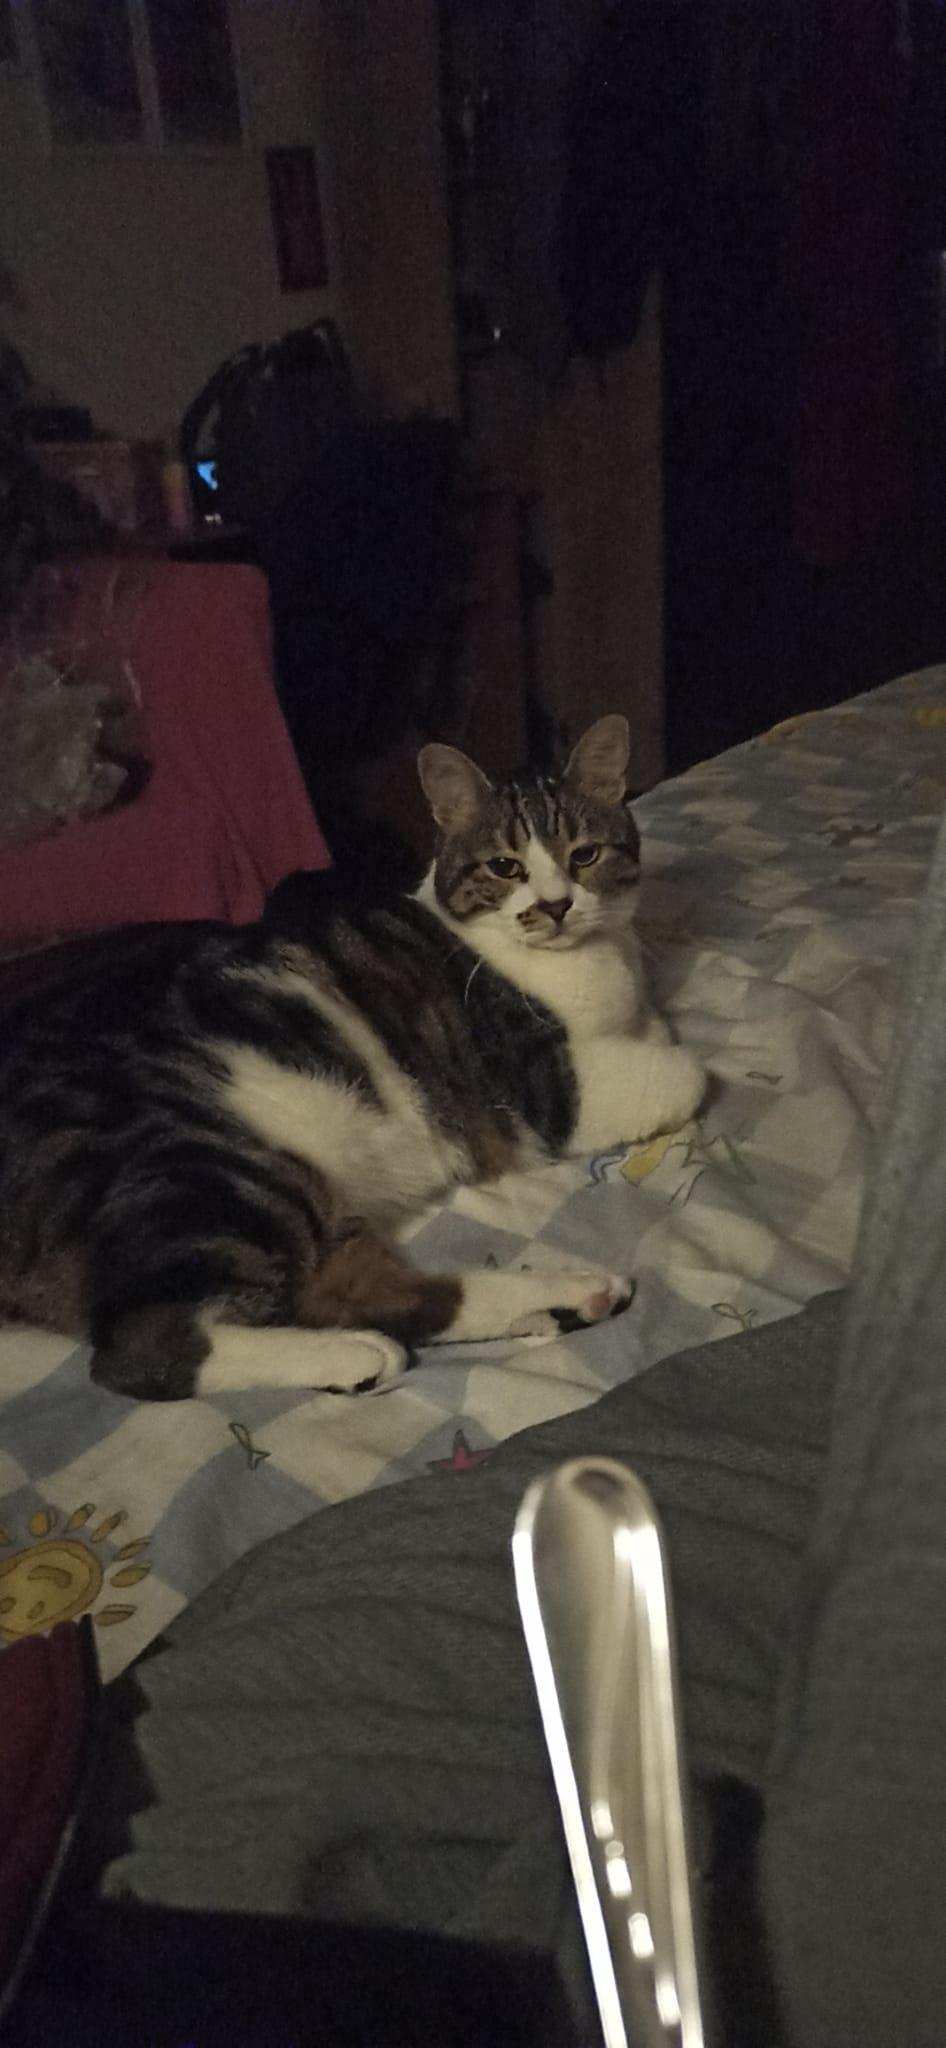kedo: (5, 712, 706, 1395)
